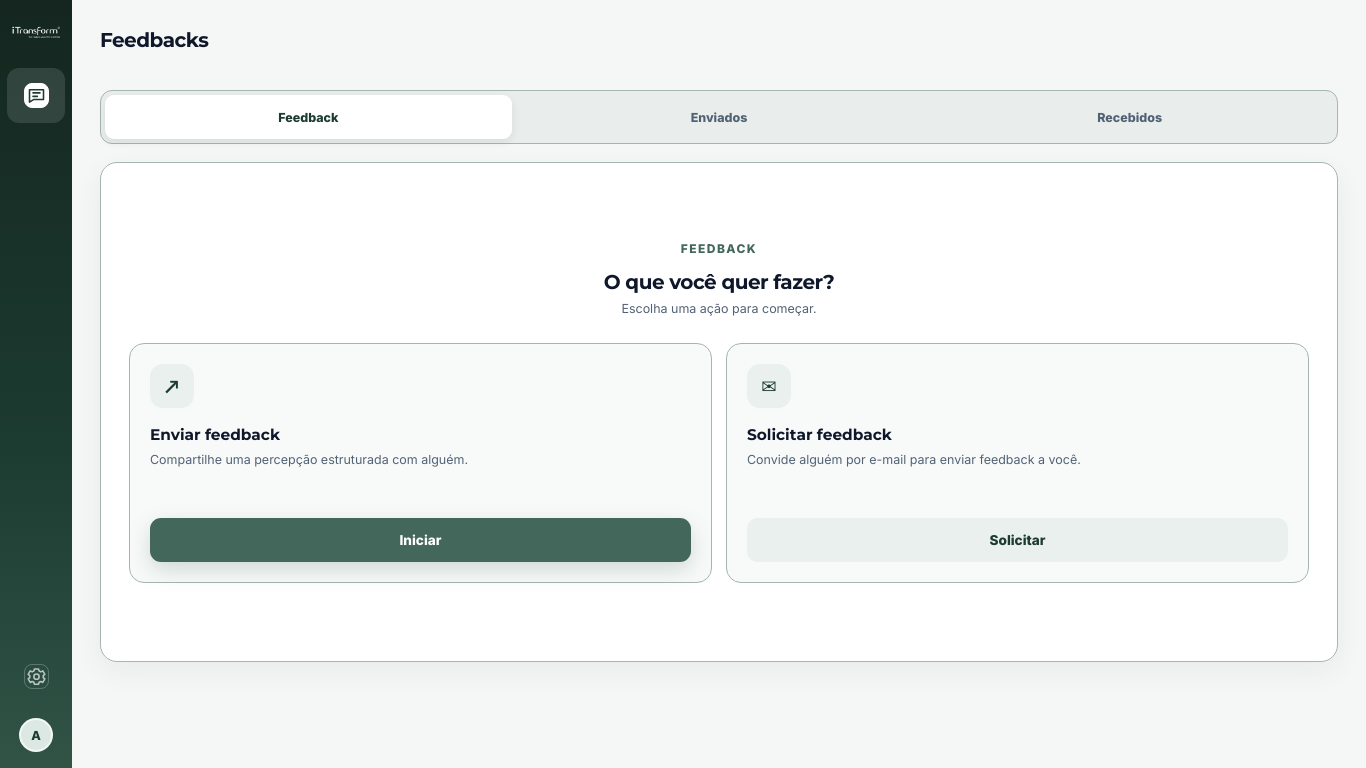
iTransform Pulse app › keeps creation and server-backed histories in separate tabs
This screenshot has width=1366, height=768.
Click the tab "Enviados". click: (719,117)
box: [516,95,922,139]
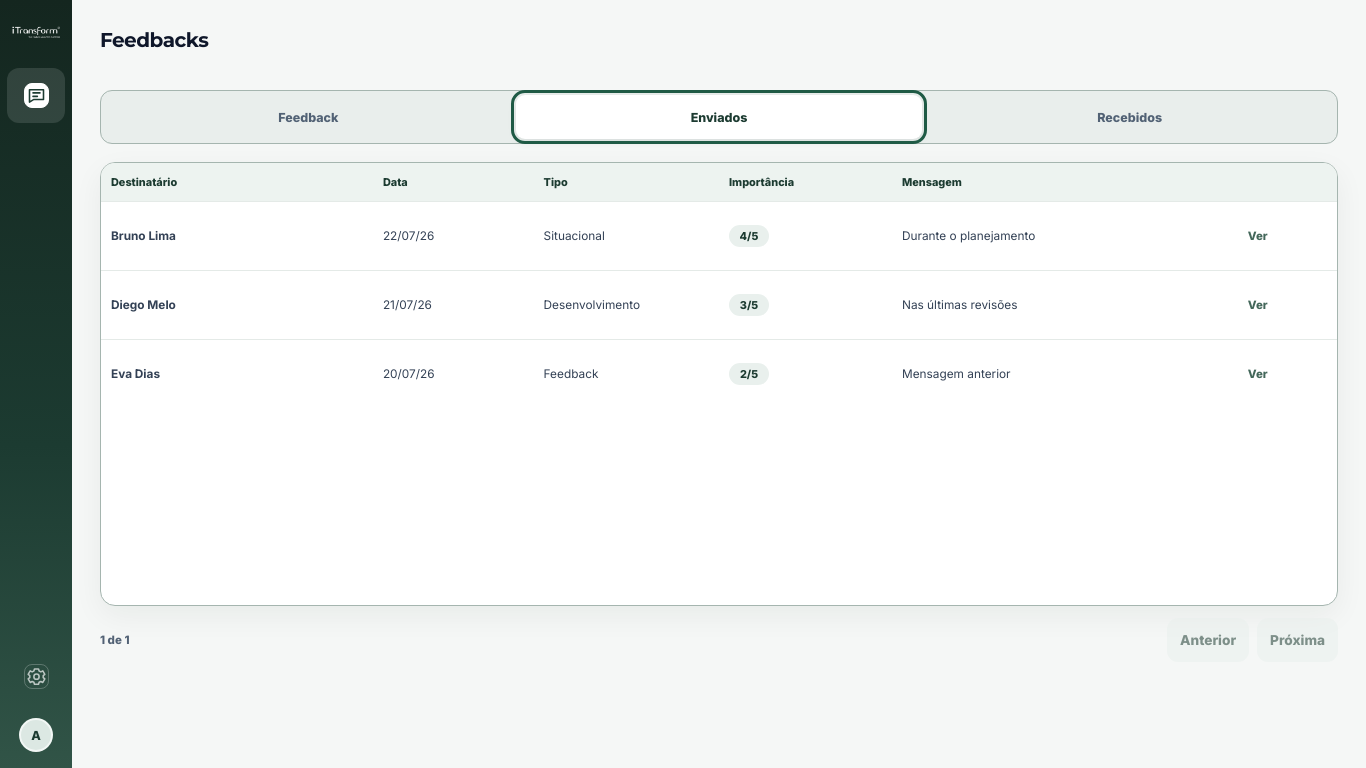
Now the text "Bruno Lima" is shown, box [111,229,176,243]
Now the table is shown, box [101,163,1337,408]
Now the text "Durante o planejamento" is shown, box [902,229,1035,243]
Click the button with aria-label "Ver feedback". click: (1258,236)
box: [1236,214,1280,258]
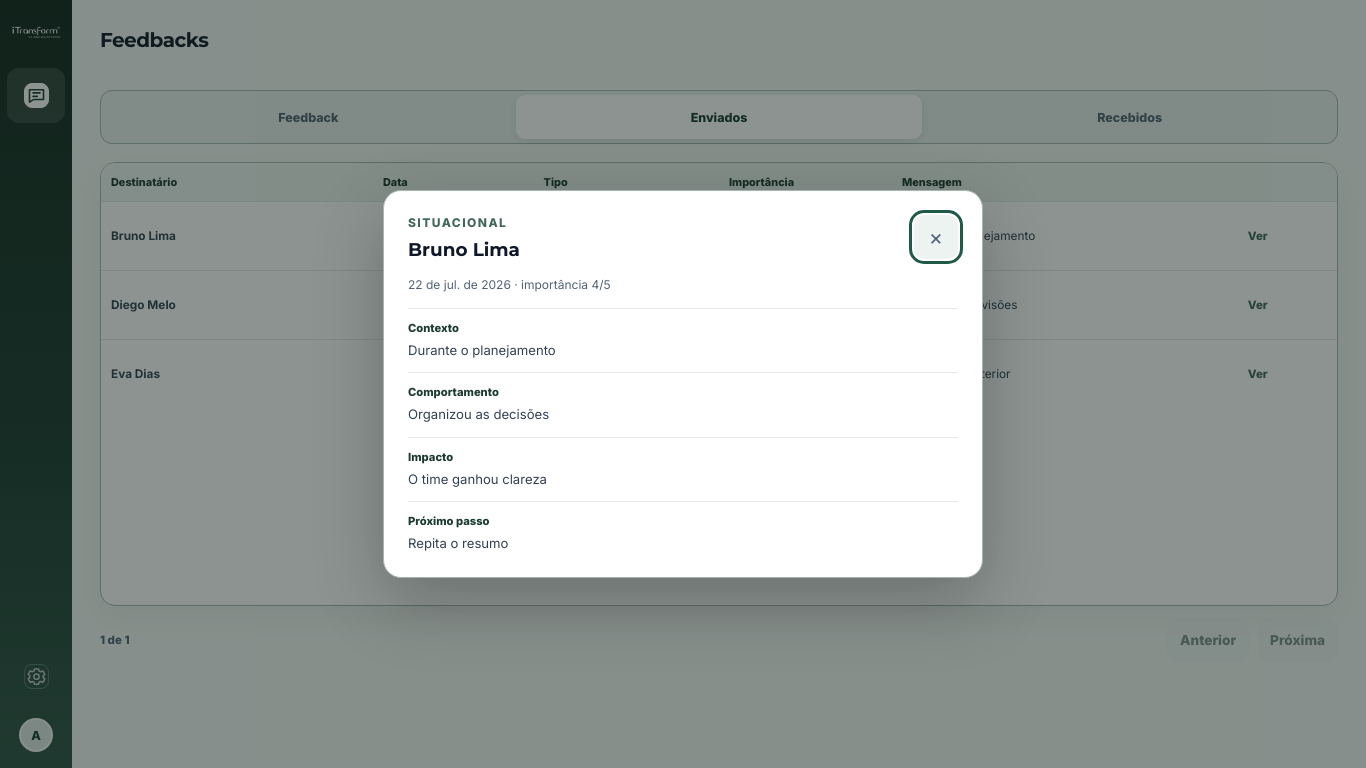
Now the text "Organizou as decisões" is shown, box [408,406,549,422]
Click the button named "Fechar detalhes". click: (936,237)
box: [914,215,958,259]
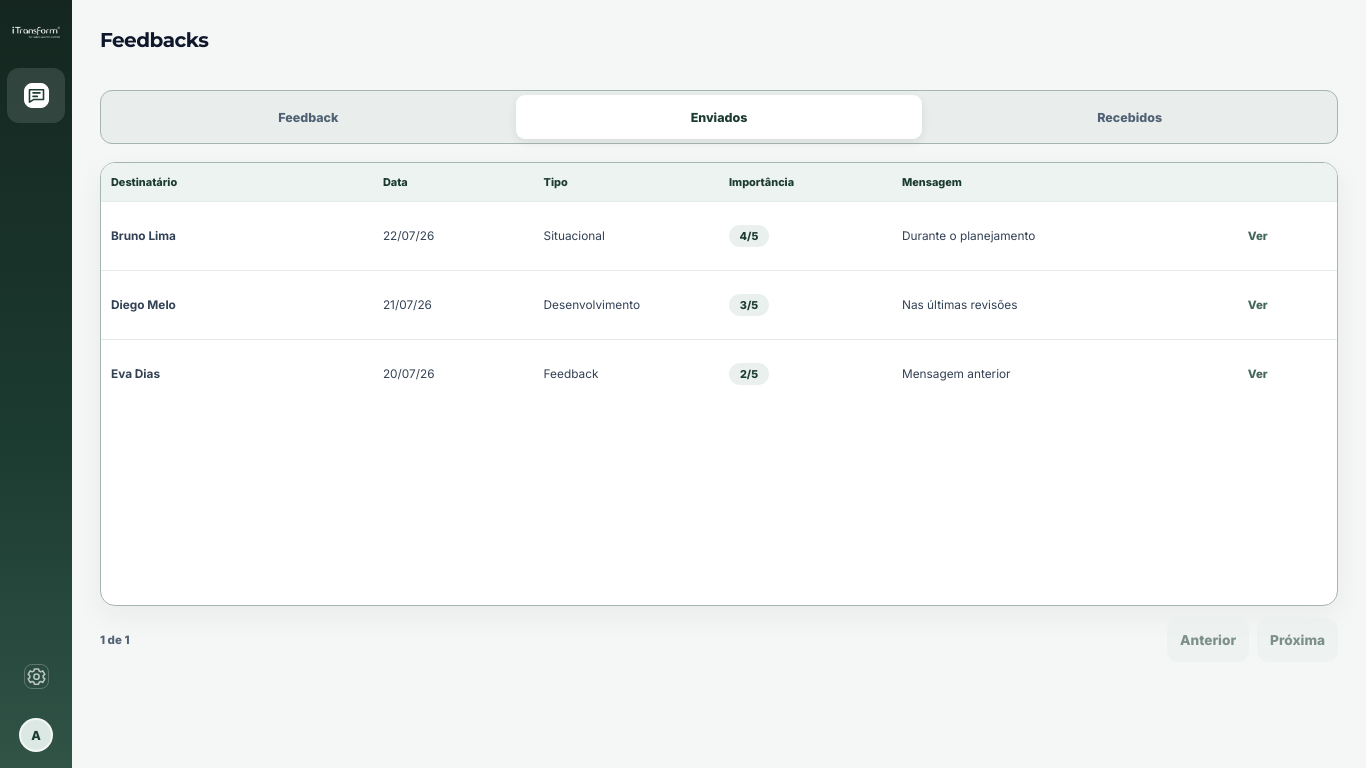
Click the button with aria-label "Ver feedback". click: (1258,305)
box: [1236,283,1280,327]
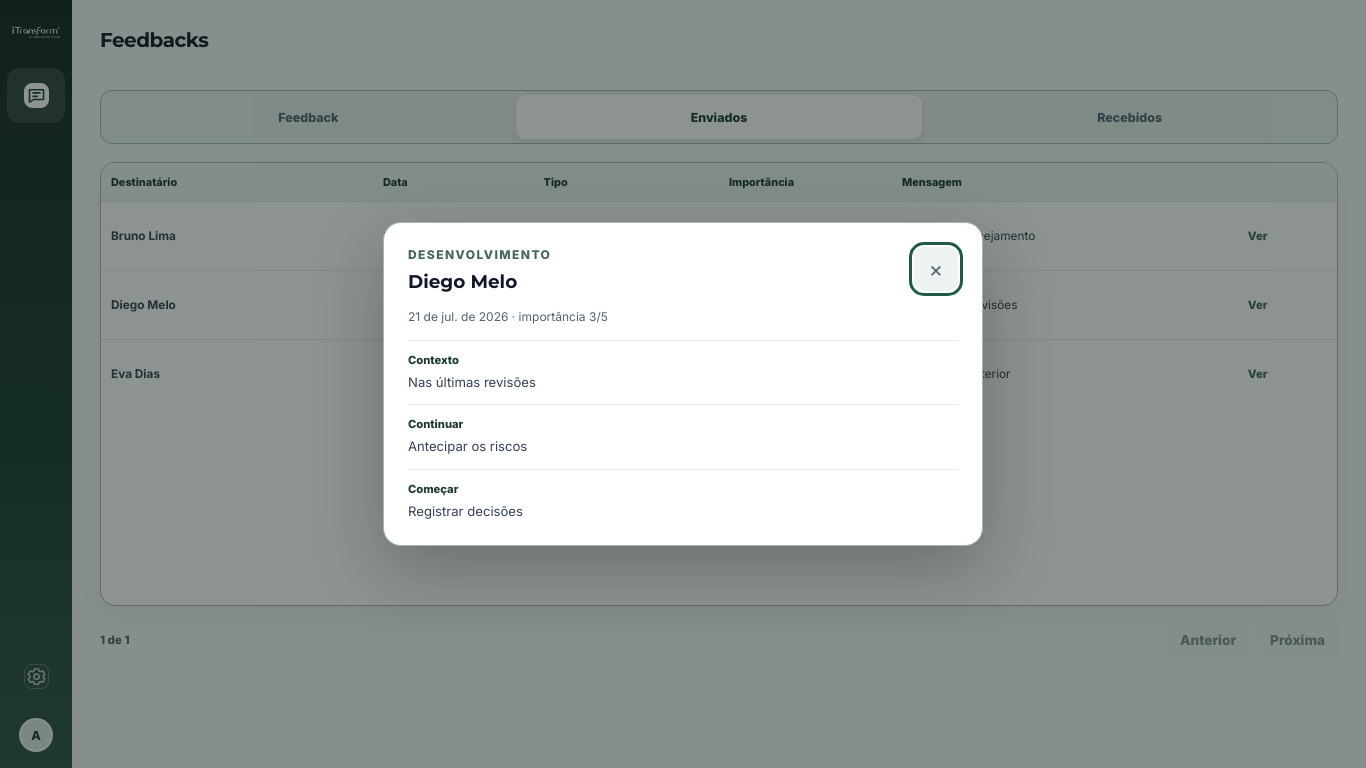
Now the text "Antecipar os riscos" is shown, box [408,438,527,454]
Click the button named "Fechar detalhes". click: (936,269)
box: [914,247,958,291]
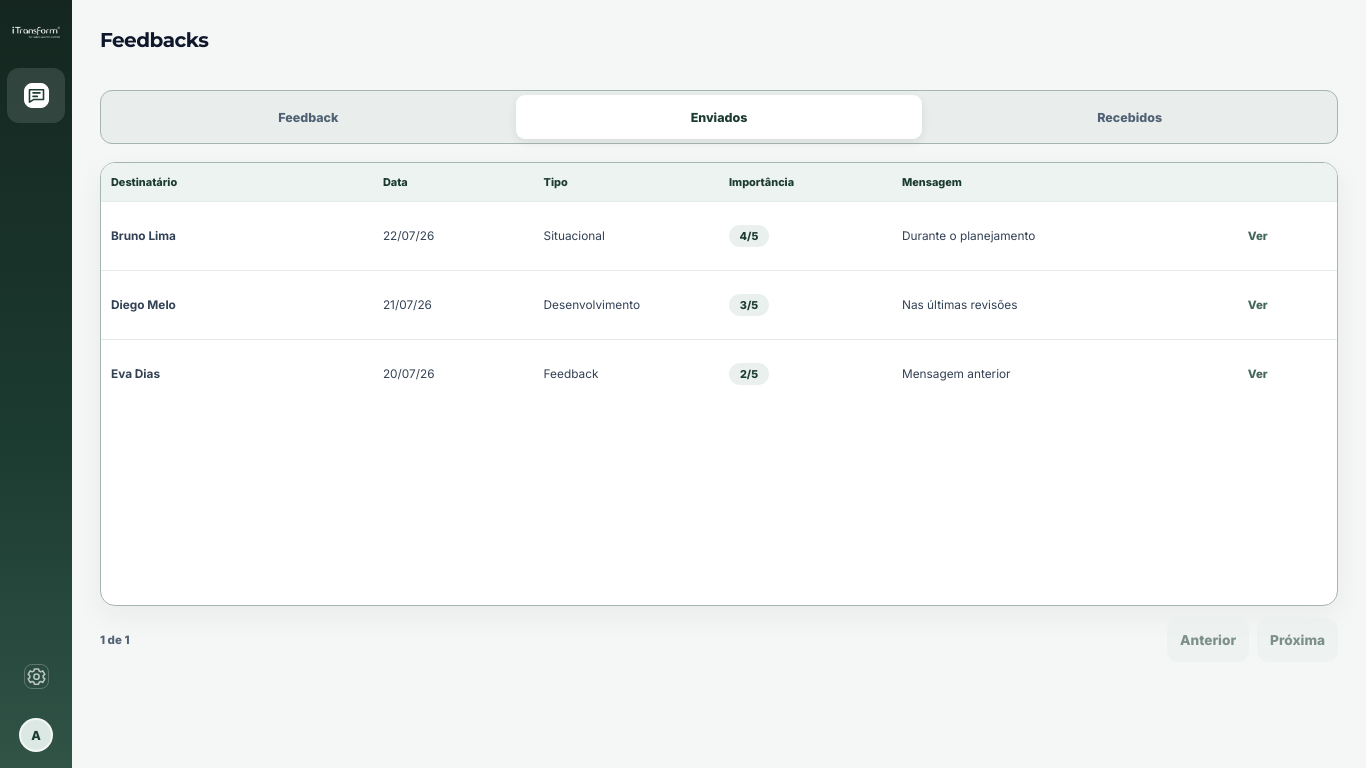
Now the text "Mensagem anterior" is shown, box [902,367,1011,381]
Click the tab "Recebidos". click: (1130,117)
box: [926,95,1333,139]
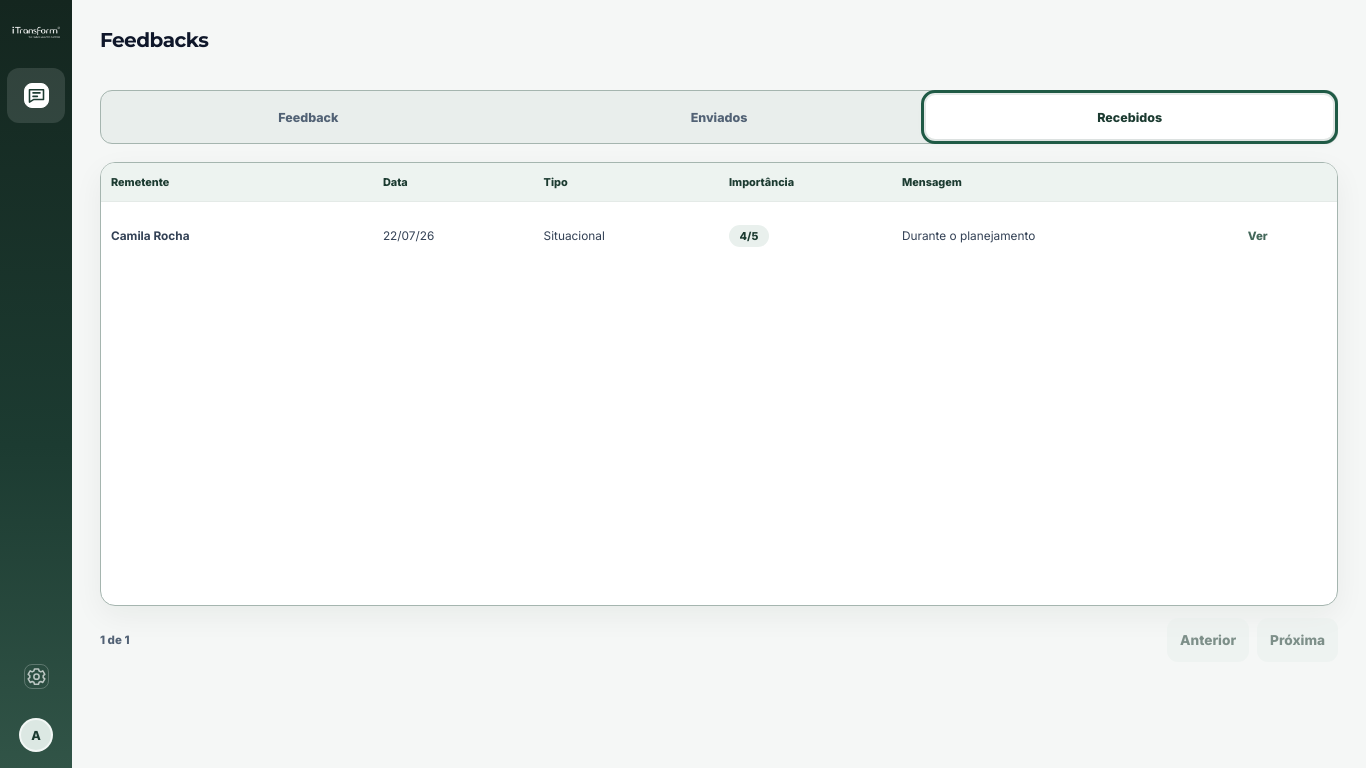
Now the text "Camila Rocha" is shown, box [111,229,190,243]
